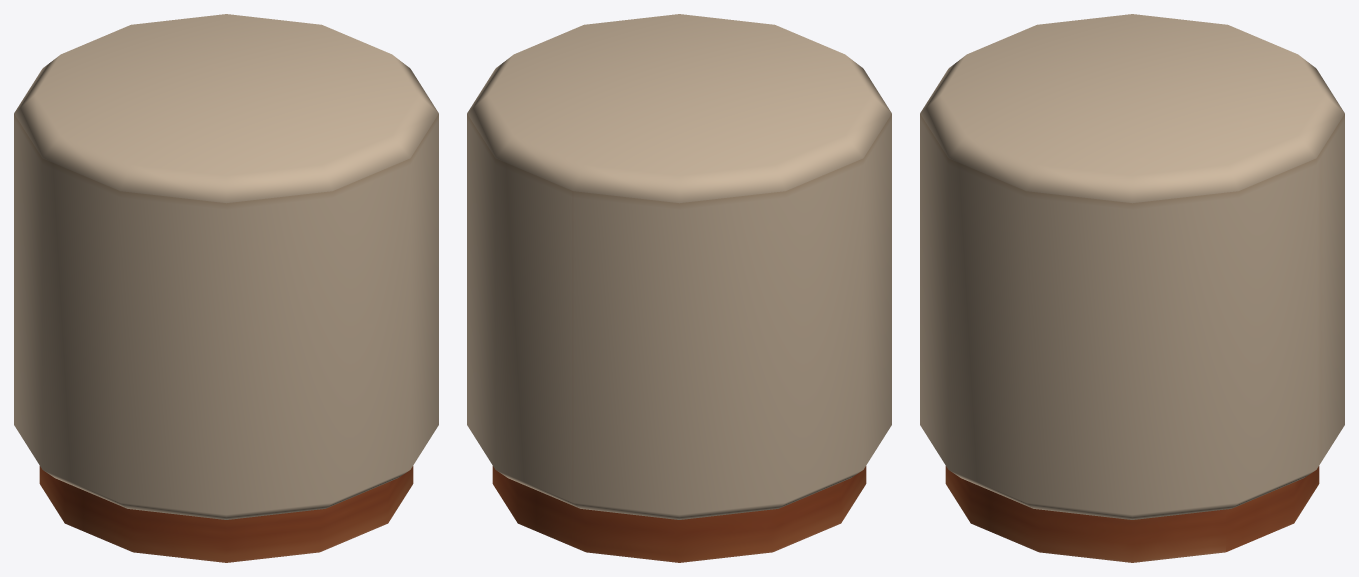
Rendered from Stool_01.glb.
3 renders of one model, left to right at view 1: azimuth 30°, elevation 25°; view 2: azimuth 150°, elevation 25°; view 3: azimuth 270°, elevation 25°, orthographic.
Visible parts, largest first — view 1: Stool_01; view 2: Stool_01; view 3: Stool_01.
Part boxes in pixels (bbox=[...]): Stool_01: bbox=[14, 14, 438, 562]; Stool_01: bbox=[467, 14, 891, 562]; Stool_01: bbox=[920, 14, 1344, 562].
Bounding box in the file's own units: 0.7521 × 0.7603 × 0.7521.
1 material, 1 textured.
